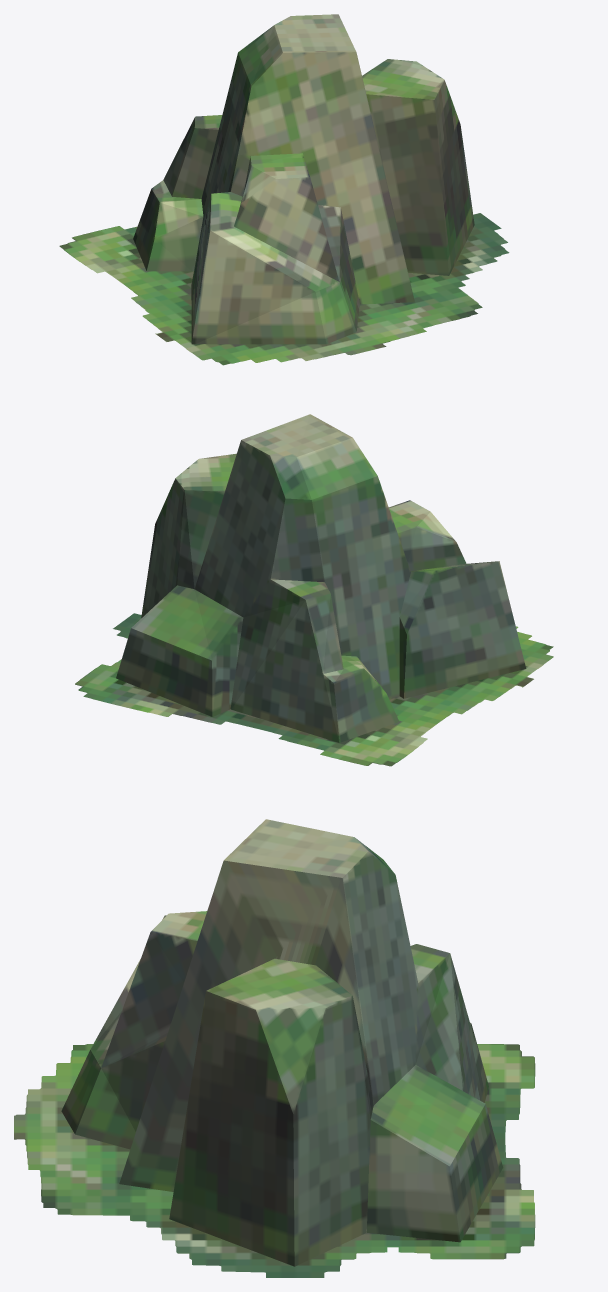
Rendered from Stone.fbx.
3 renders of one model, top to bottom at view 1: azimuth 30°, elevation 25°; view 2: azimuth 150°, elevation 25°; view 3: azimuth 270°, elevation 25°, orthographic. The views are drawn at different scales.
Parts seen in each view (by area): view 1: Stone; view 2: Stone; view 3: Stone.
Boxes of the visible parts, x1,y1,x2,y2 form: Stone: (59,14,509,365); Stone: (75,414,553,766); Stone: (14,819,535,1277).
Bounding box in the file's own units: 148 × 88.72 × 148.
